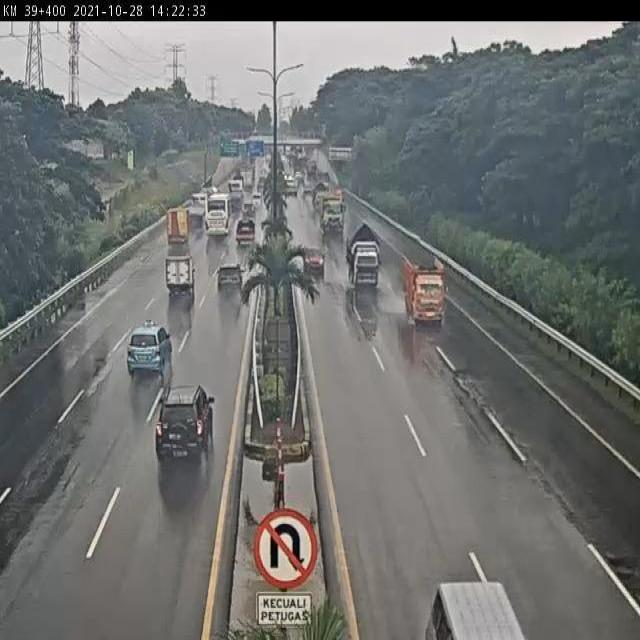big bus: (203, 193, 233, 240)
car: (155, 382, 216, 462), (125, 323, 174, 381), (165, 254, 196, 294), (217, 261, 244, 296), (300, 243, 325, 273)
truck-l-: (320, 195, 347, 236)
truck-m-: (344, 222, 382, 290)
truck-s-: (402, 250, 448, 326), (166, 205, 192, 243), (236, 217, 256, 244)
